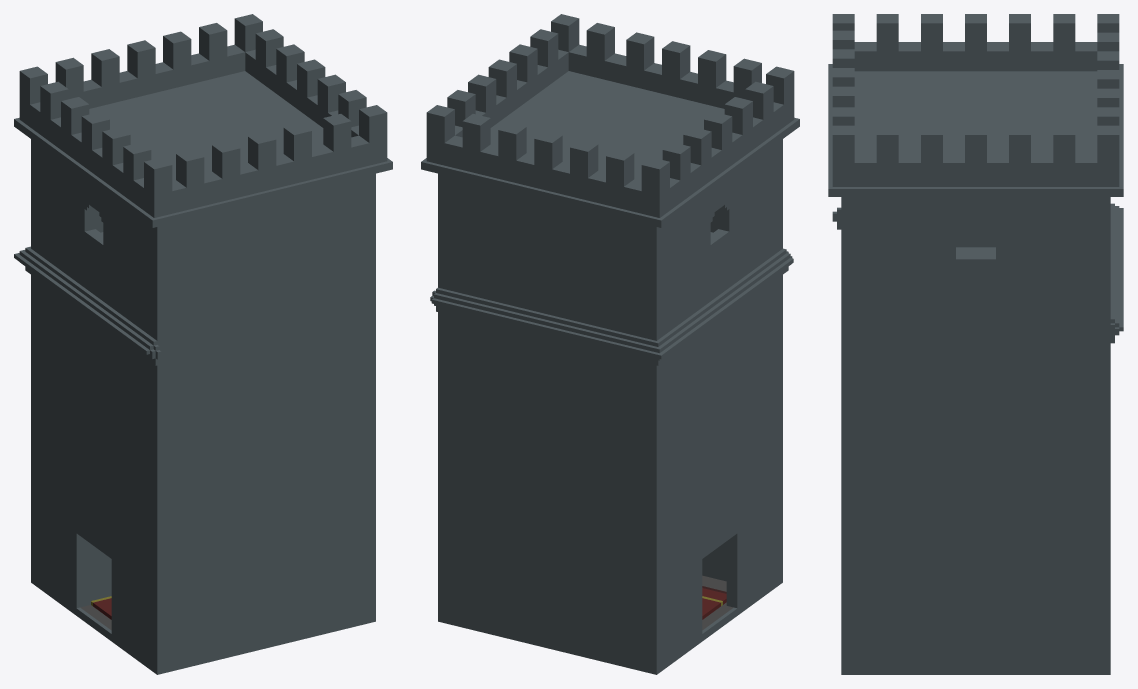
Rendered from grassy_field-7-castle.obj.
3 views of the same model, side by side, from view 1: azimuth 30°, elevation 25°; view 2: azimuth 150°, elevation 25°; view 3: azimuth 270°, elevation 25° (orthographic). The views are drawn at different scales.
Parts seen in each view (by area): view 1: castle; view 2: castle; view 3: castle.
Part boxes in pixels (bbox=[...]): castle: bbox=[14, 14, 392, 674]; castle: bbox=[421, 14, 799, 674]; castle: bbox=[828, 14, 1123, 674].
Size of the model in its own units: 6.7 by 13.6 by 6.7.
1 material, 1 textured.
